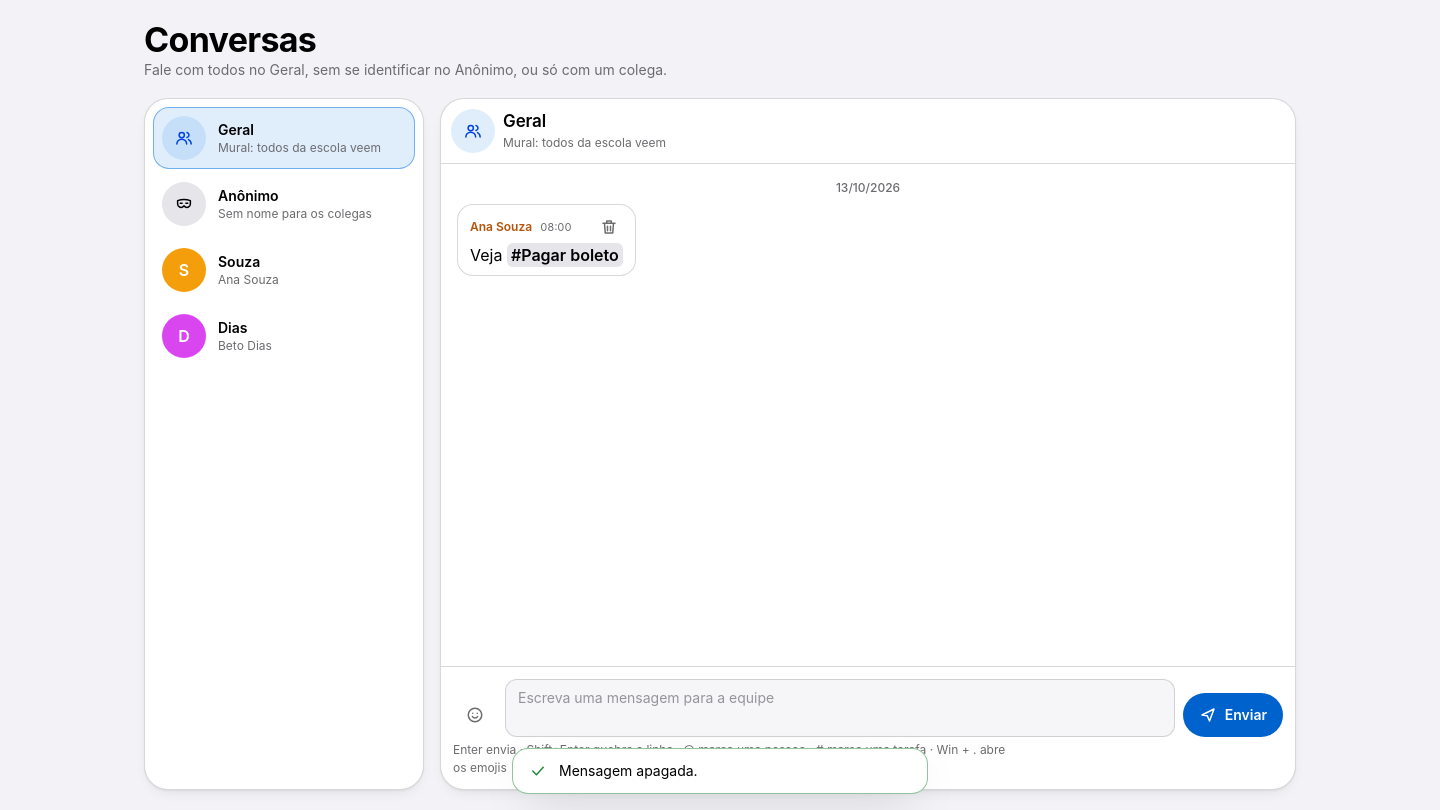
Test: conversas: marcações, perfil e emojis (tela) › o nome de quem escreveu abre o perfil; a tarefa marcada abre o resumo com link para o quadro
Check: the navigation bar named "Conversas" is shown, box [144,98,424,790]
Click the button "Geral Mural: todos da escola veem" at (284, 138), box [153,107,415,169]
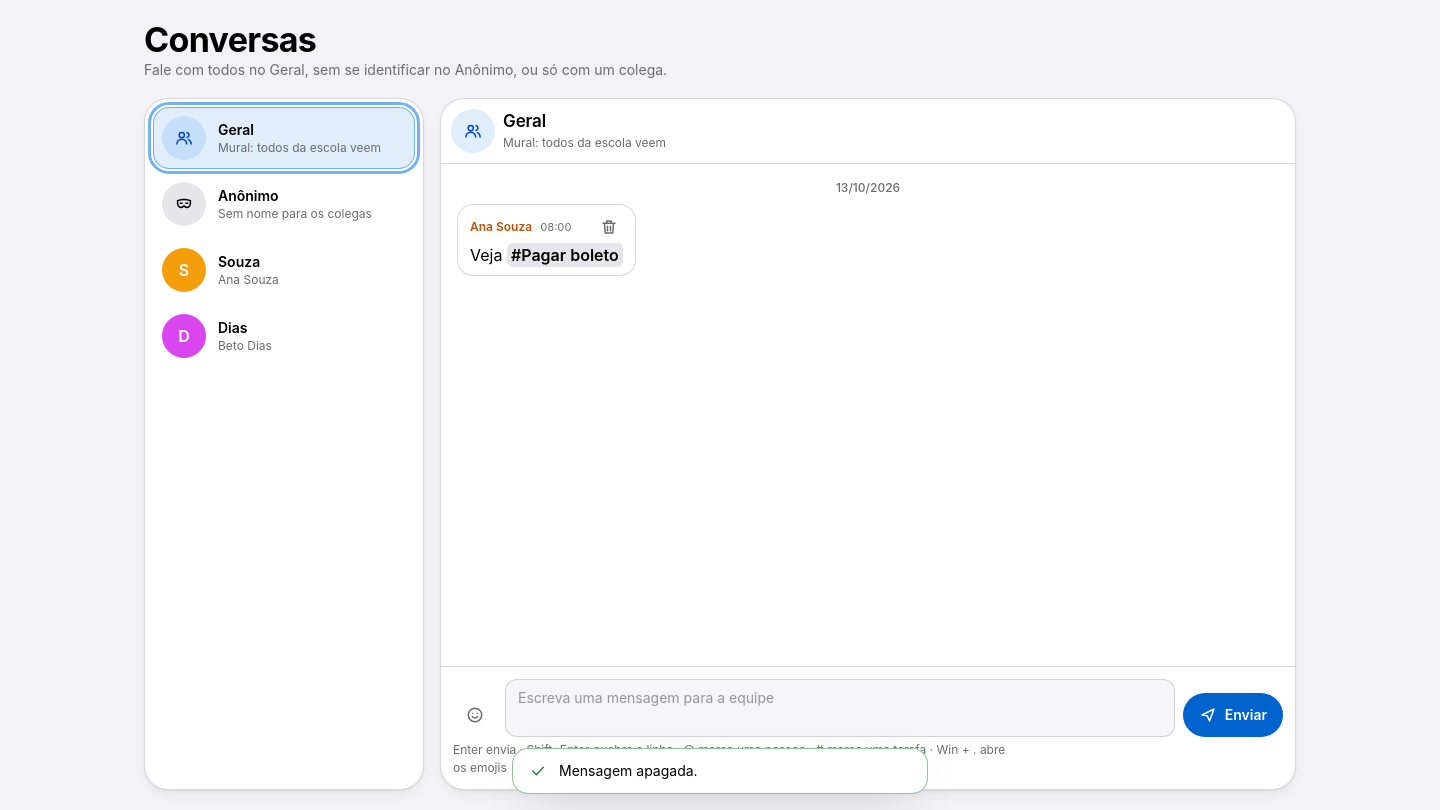
Click the button with aria-label "Ver perfil de Ana Souza" at (501, 227), box [470,219,532,235]
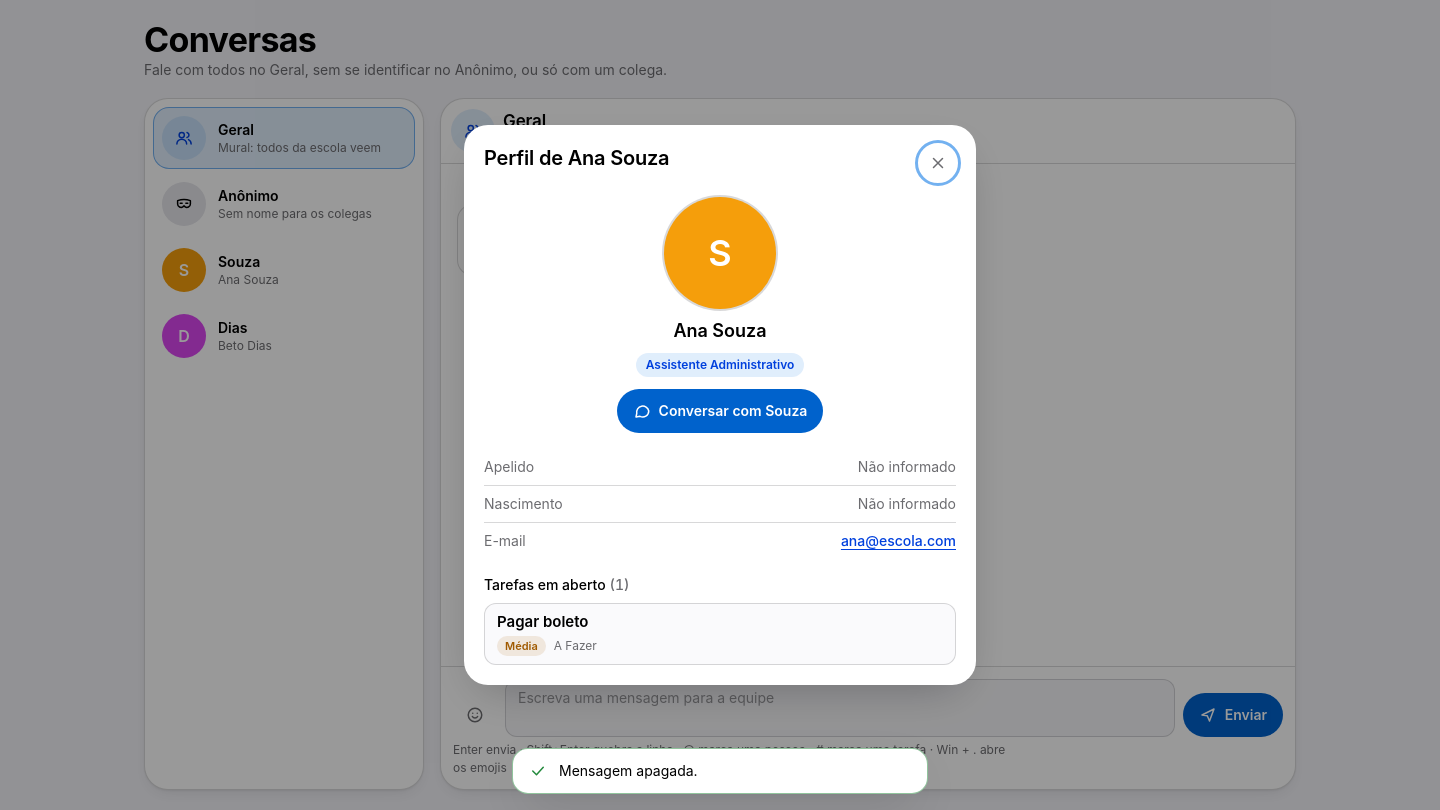
Check: the dialog "Perfil de Ana Souza" is shown, box [464,125,976,685]
Press Escape
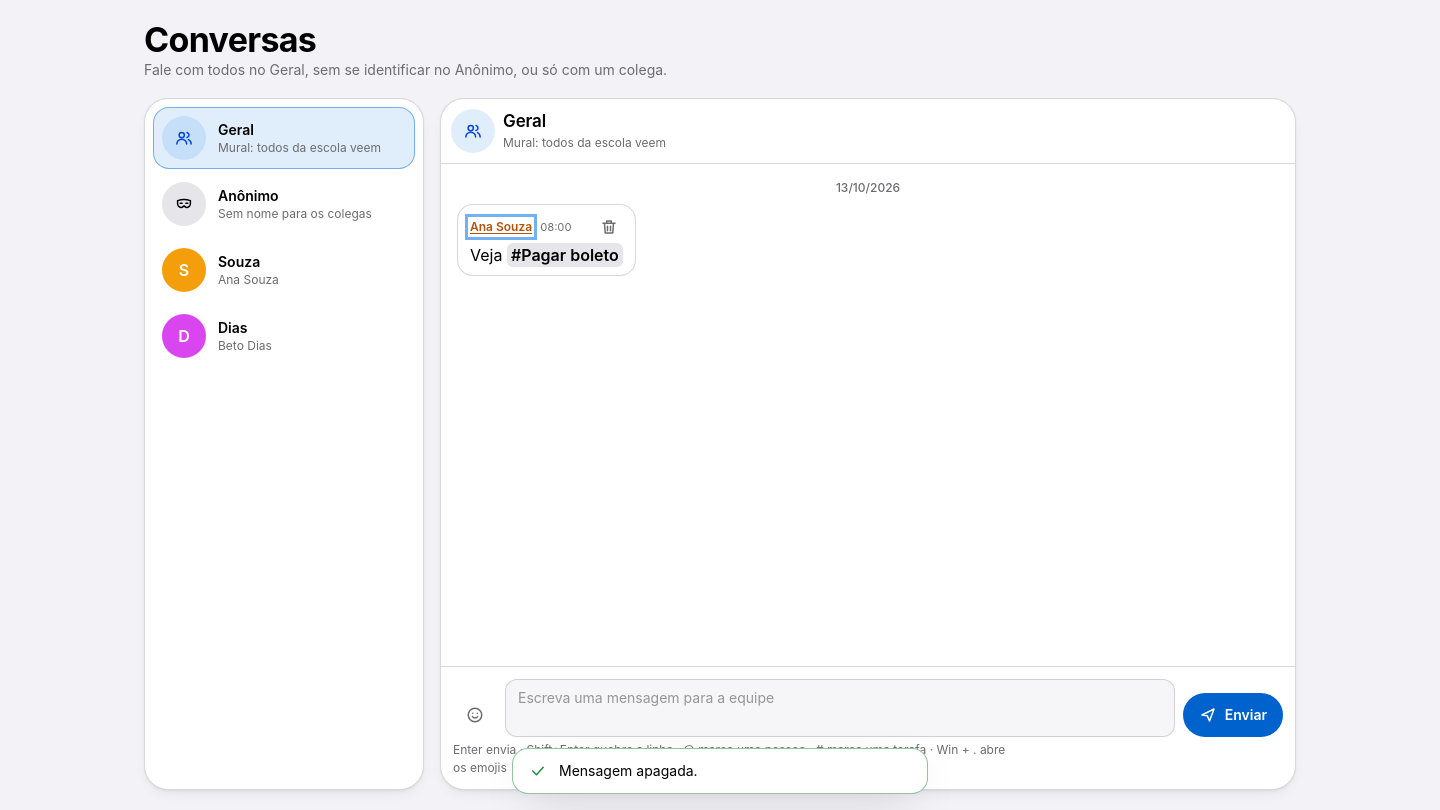
Click the button with aria-label "Ver tarefa Pagar boleto" at (565, 255), box [507,243,623,267]
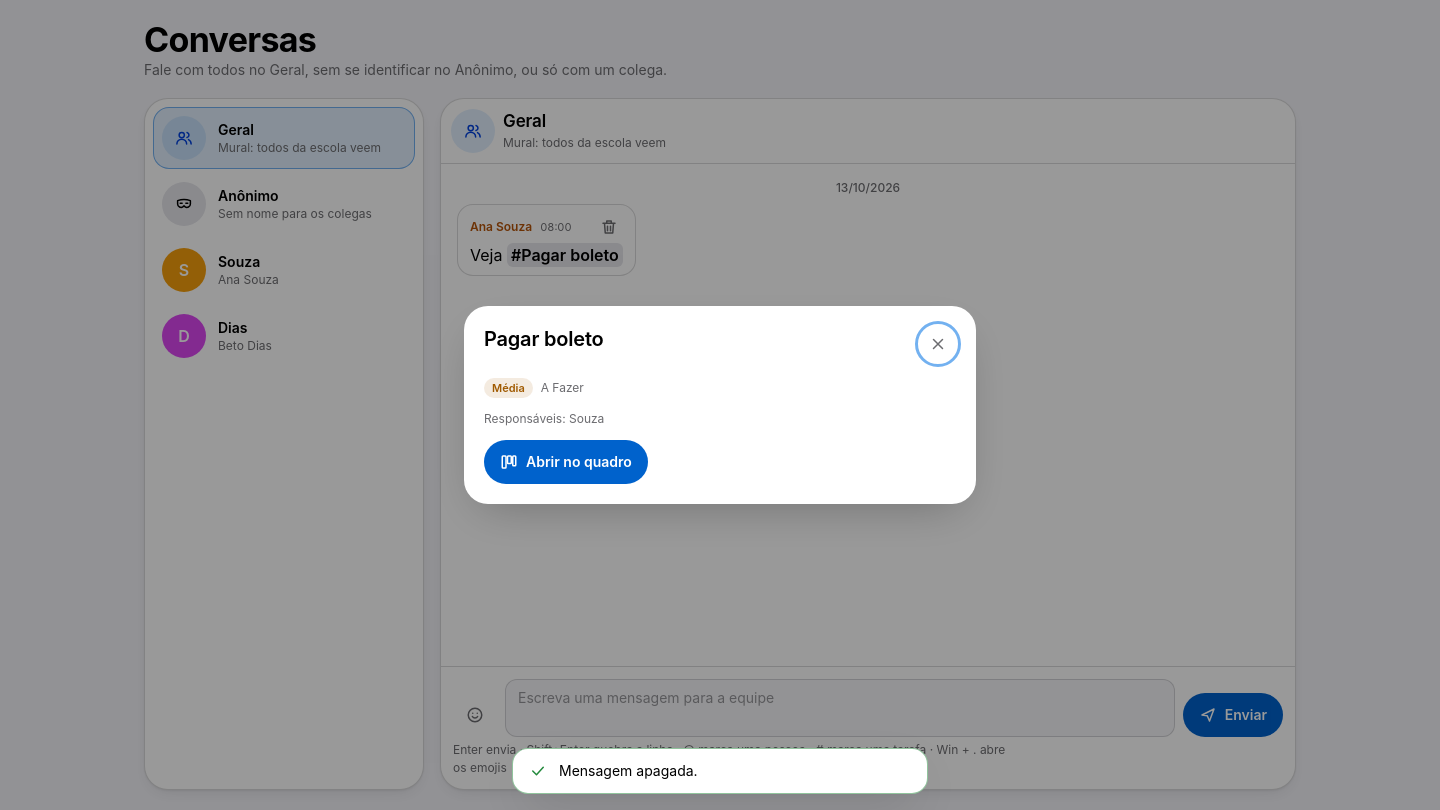
Check: the text "Responsáveis: Souza" is shown, box [484,411,604,426]
